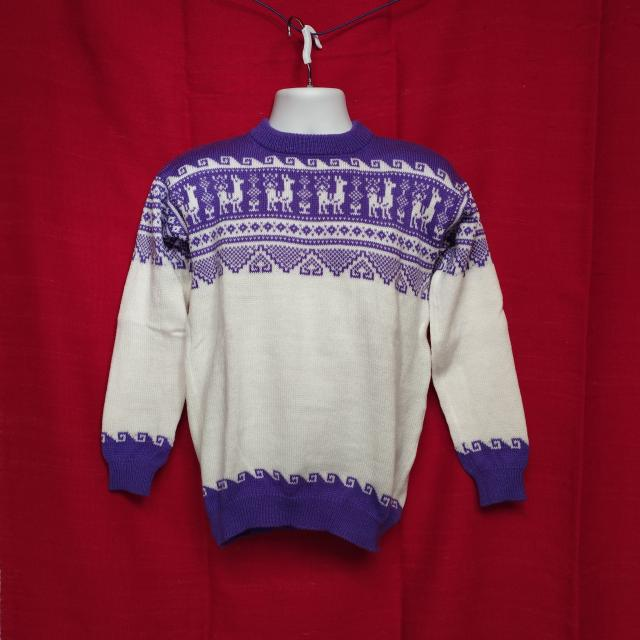Chompa: (100, 84, 530, 553)
